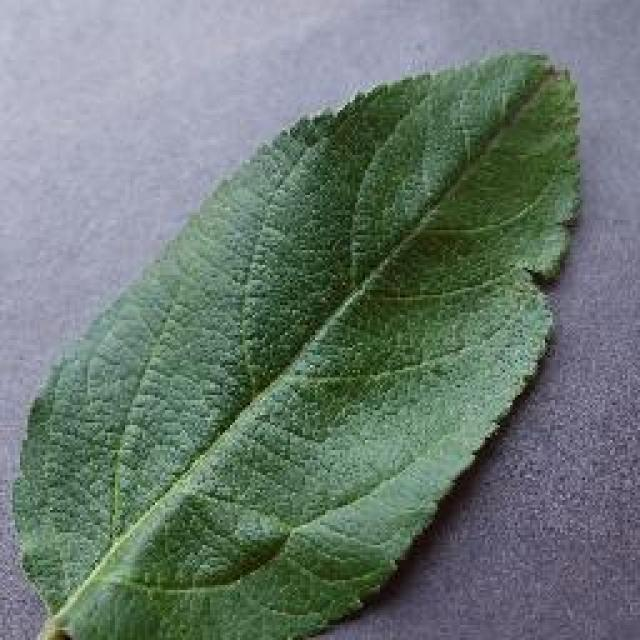apple healthy: (7, 45, 585, 637)
